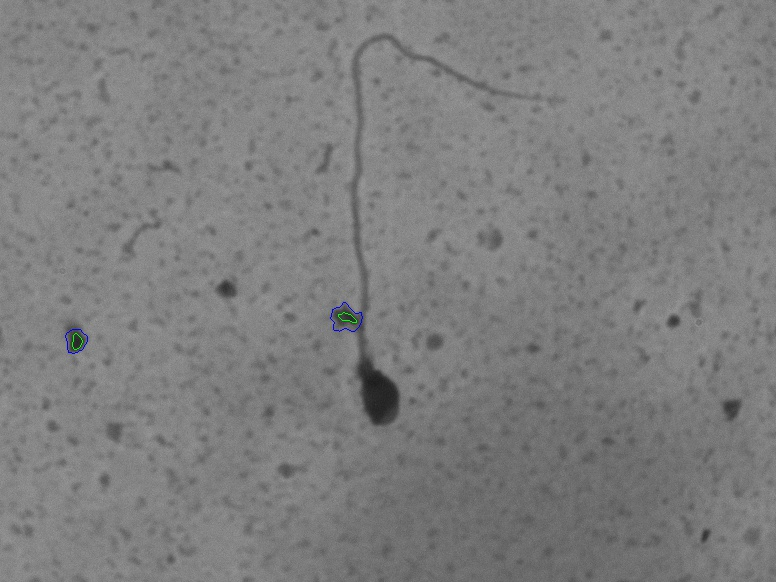Abnormal: (287, 22, 560, 471)
